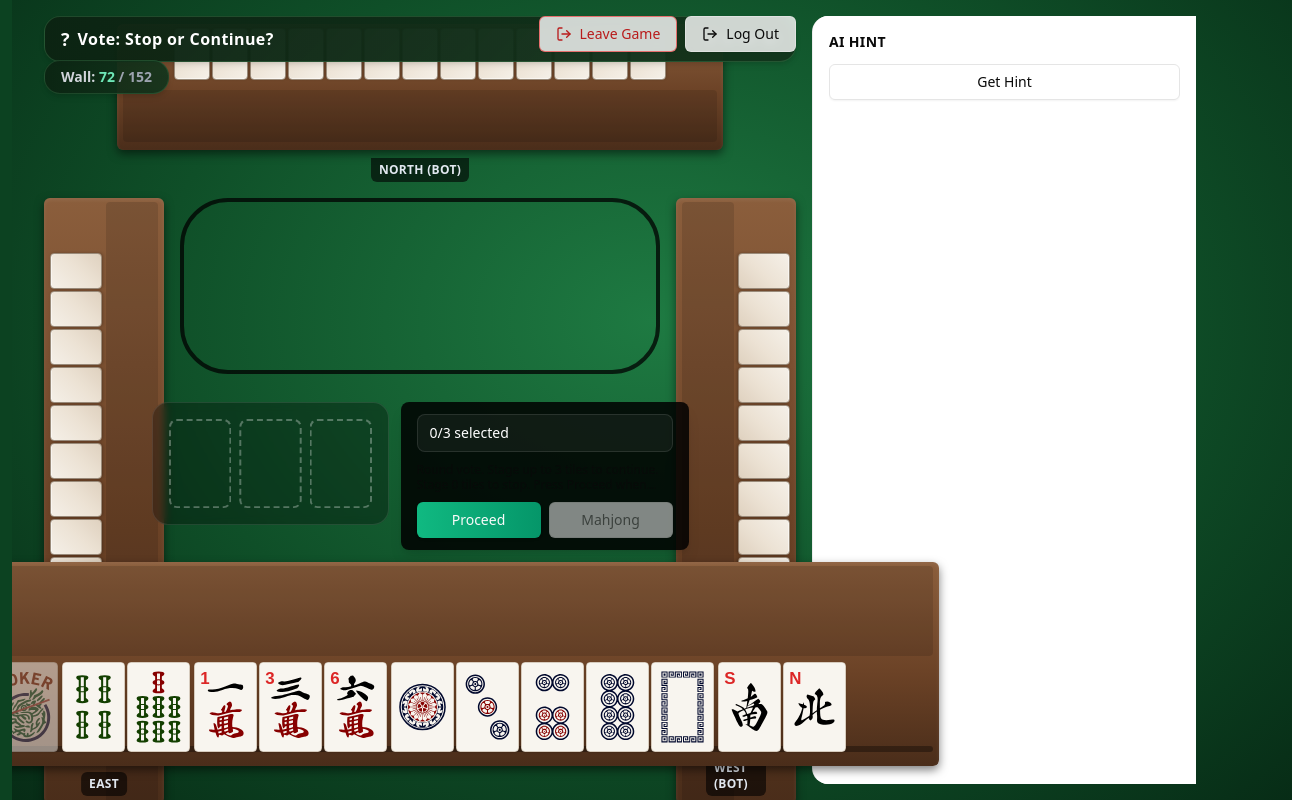
Test case: US-005: Charleston Voting (Stop/Continue) › Test 2: Vote submission (AC-2, AC-3) › shows "You voted to CONTINUE" message after voting Continue
Click the button with test id "tile-3-3-0": click(93, 707) [62, 662, 124, 752]
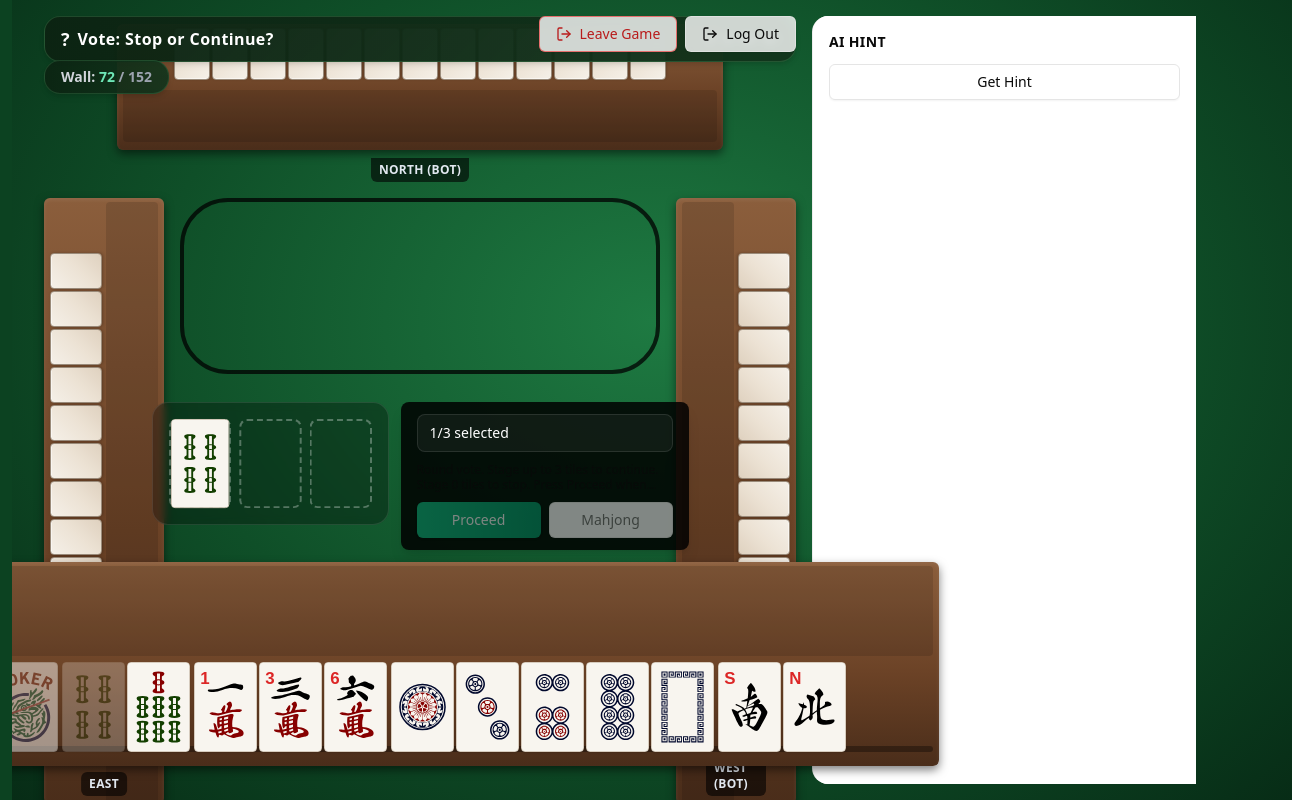
Click the button with test id "tile-6-6-0": click(158, 707) [126, 662, 190, 752]
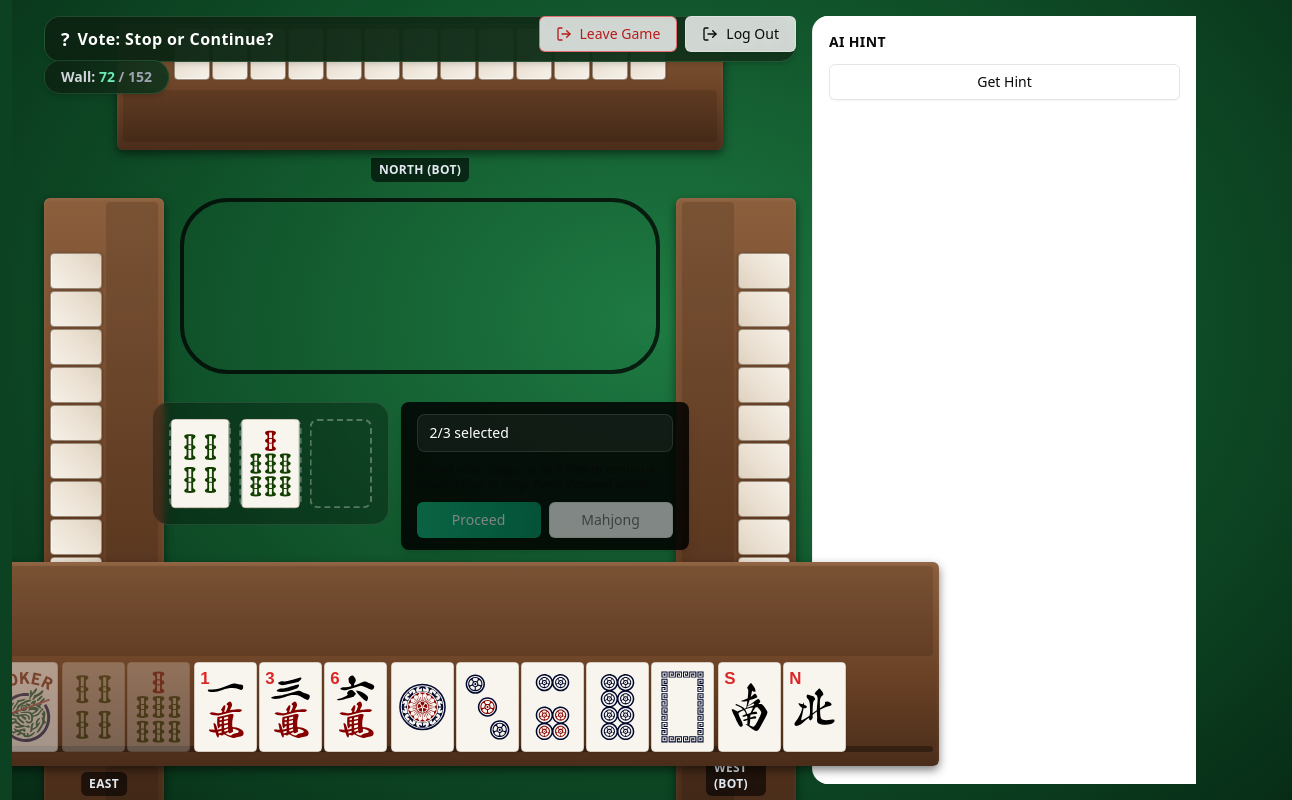
Click the button with test id "tile-9-9-0": click(225, 707) [194, 662, 256, 752]
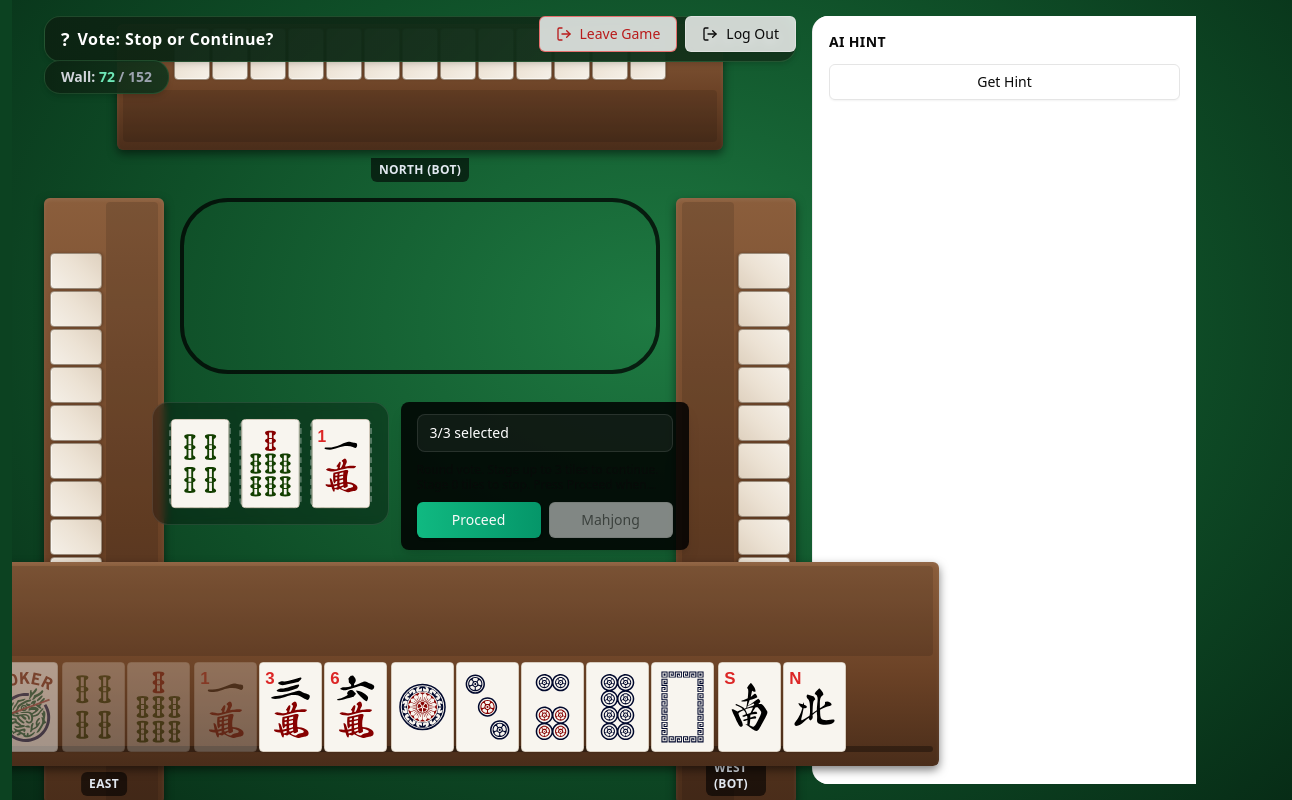
Result: the button with test id "proceed-button" is enabled
Click the button with test id "proceed-button": click(478, 520) [416, 502, 540, 538]
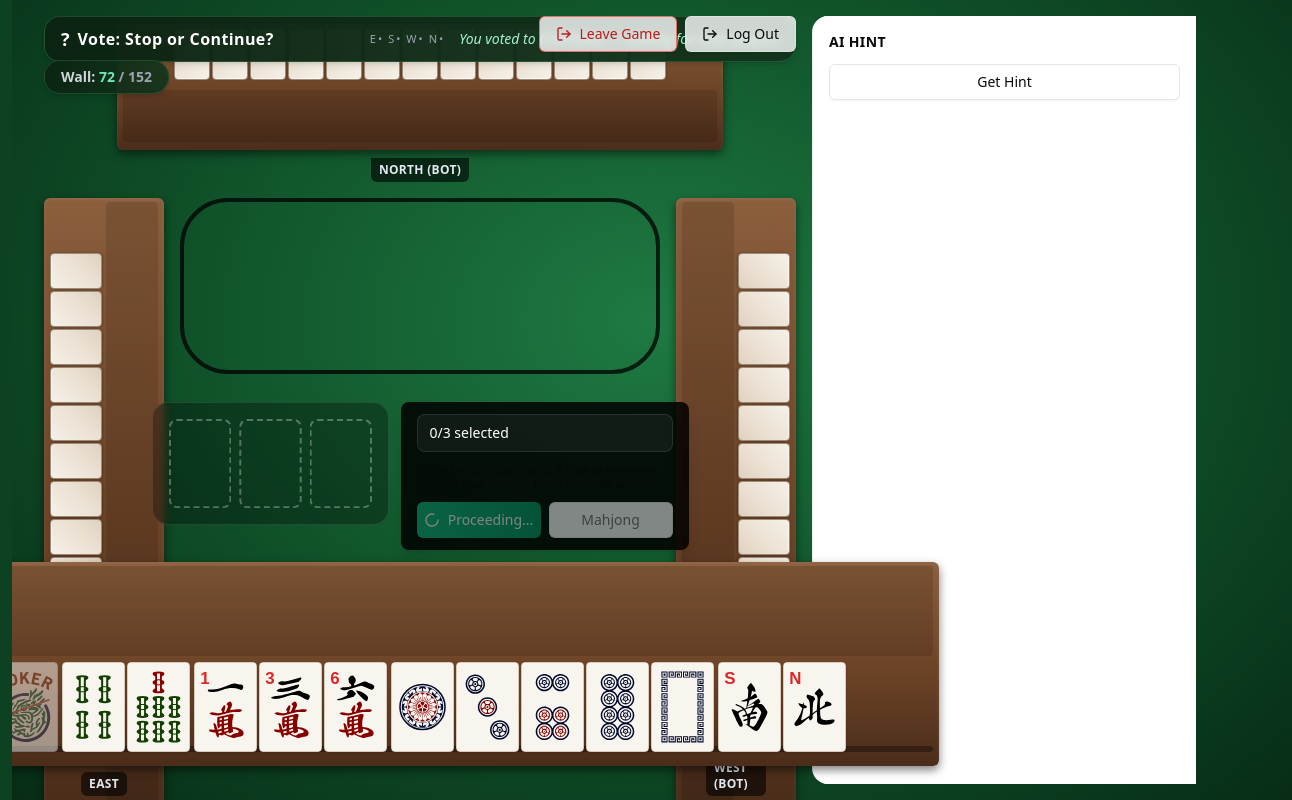
Result: the text with test id "charleston-status-message" reads "You voted to CONTINUE — waiting for other players" at [459, 29, 779, 48]
